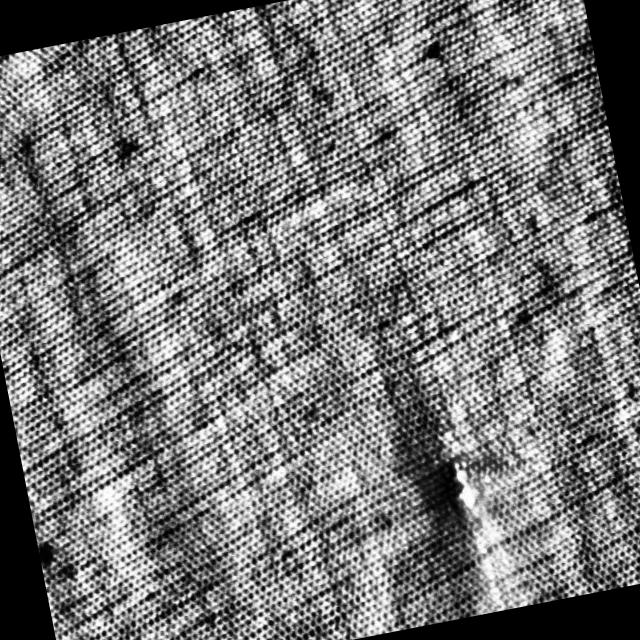cut: (429, 444, 496, 530)
